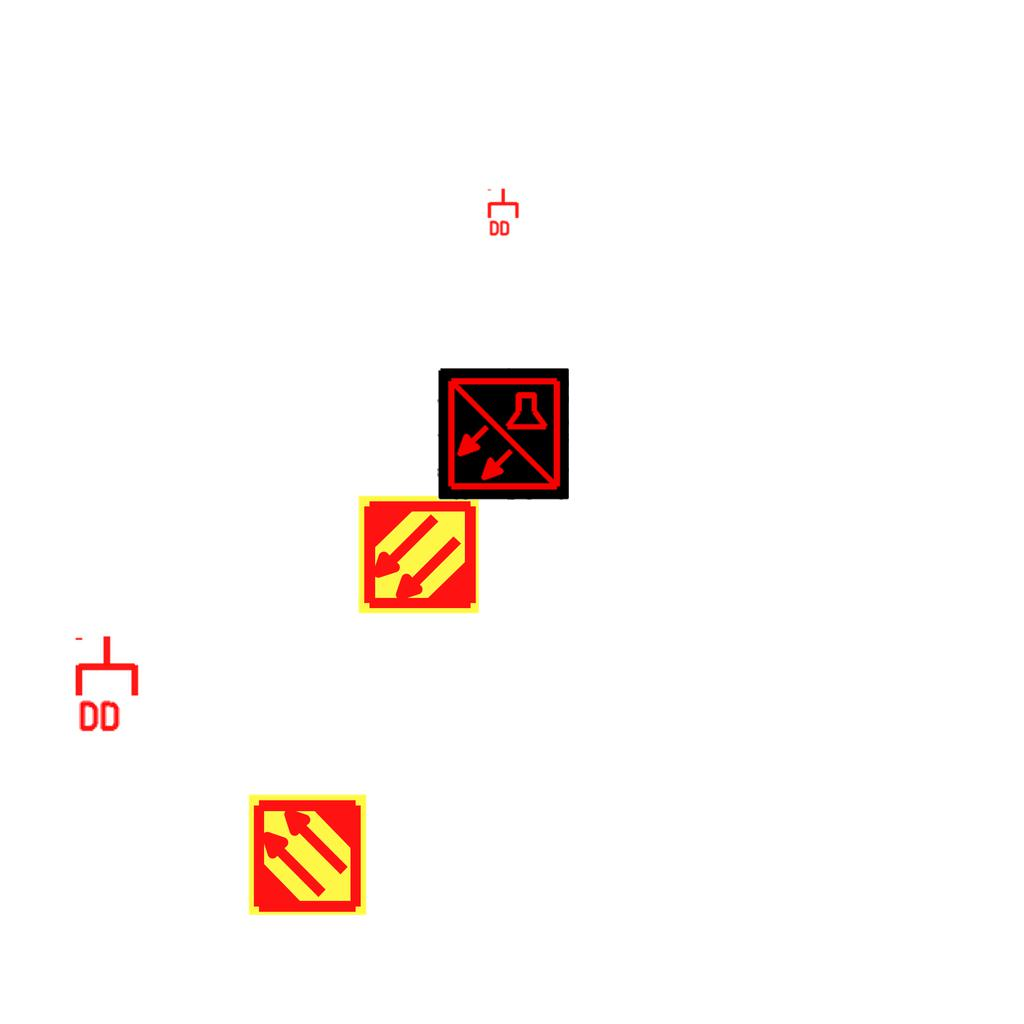ASR_Ansaugrauchmelder: (356, 492, 481, 617), (245, 792, 370, 917)
Datenanschluss_zweifach: (74, 633, 143, 736), (487, 187, 521, 238)
OKW_Multisensormelder_(Kombination_optischer_Rauch-Kahlenmonoxid_Waerme-Melder): (437, 368, 569, 500)
